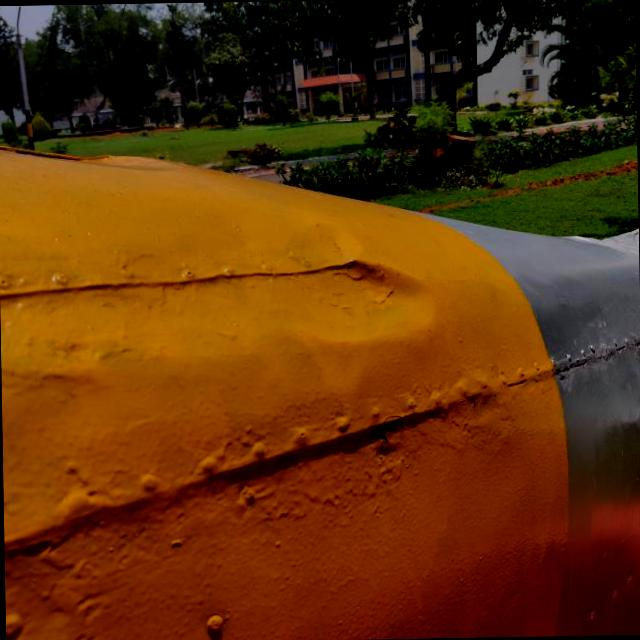dent: (280, 228, 451, 368)
